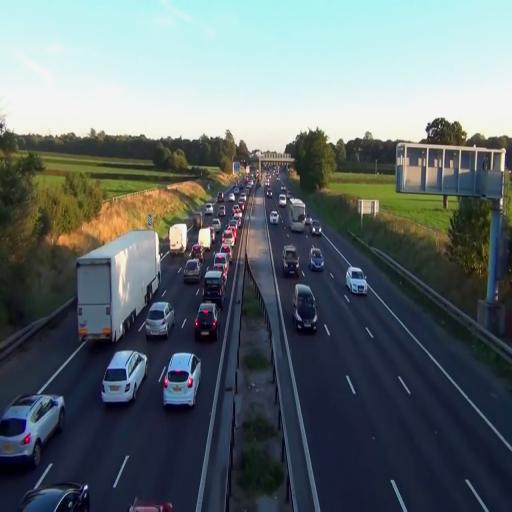vehicle: (75, 228, 162, 344), (76, 230, 162, 346), (0, 392, 66, 468), (101, 348, 149, 404), (160, 350, 201, 408), (18, 482, 90, 512), (292, 284, 318, 333), (145, 301, 174, 340), (202, 269, 224, 312), (194, 303, 218, 342), (346, 266, 368, 296), (281, 244, 300, 276), (169, 223, 188, 254), (182, 259, 203, 287), (308, 247, 325, 272), (269, 209, 280, 225)
